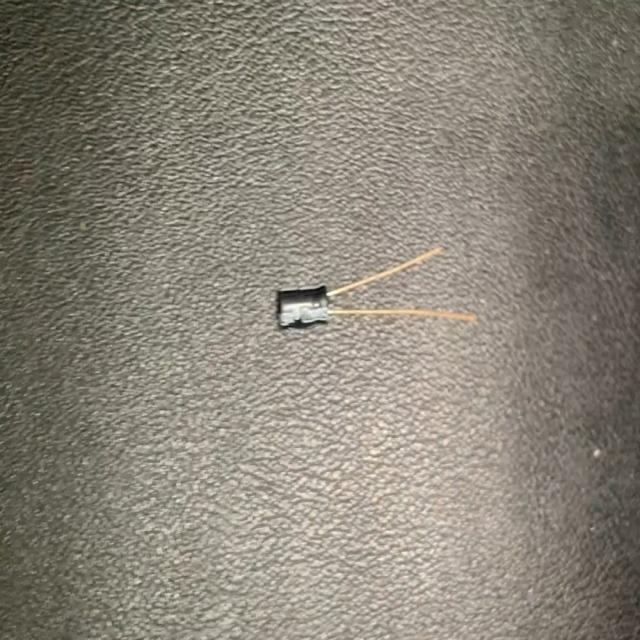capacitor: (272, 243, 478, 335)
